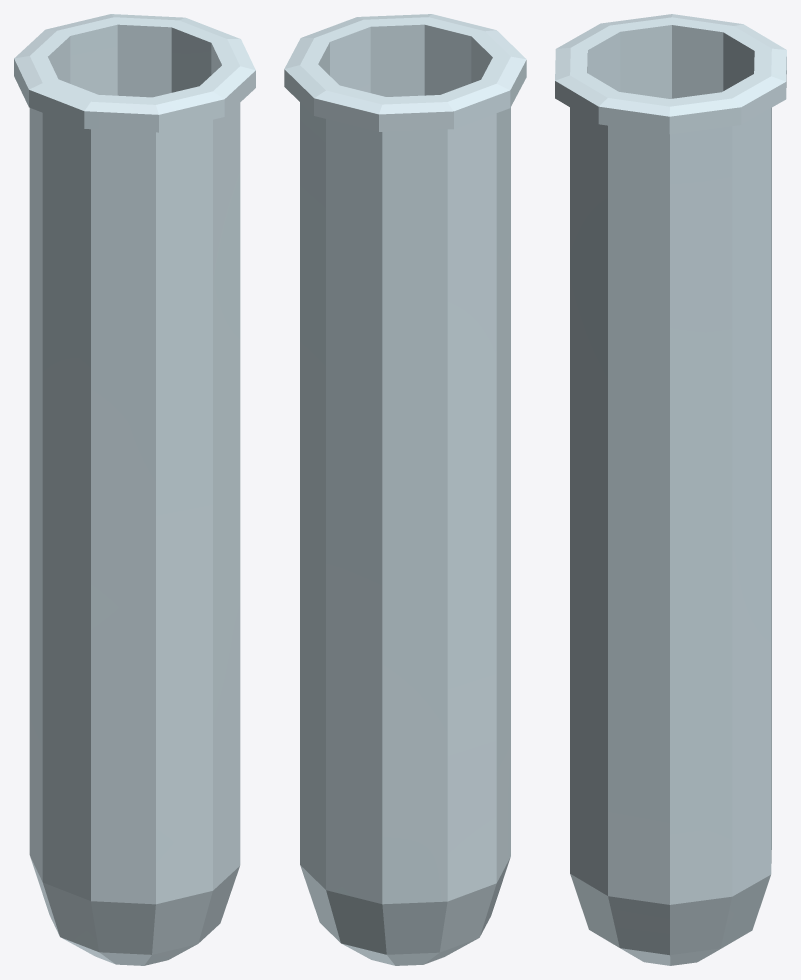
The picture shows the model from 3 angles, left to right: view 1: azimuth 30°, elevation 25°; view 2: azimuth 150°, elevation 25°; view 3: azimuth 270°, elevation 25°; orthographic projection.
Visible parts, largest first — view 1: test_tube_1; view 2: test_tube_1; view 3: test_tube_1.
Boxes of the visible parts, x1,y1,x2,y2 form: test_tube_1: (14,14,255,965); test_tube_1: (284,14,526,965); test_tube_1: (555,14,786,965).
Bounding box in the file's own units: 0.0291 × 0.1168 × 0.0278.
Materials: 1 (1 with a texture image).
